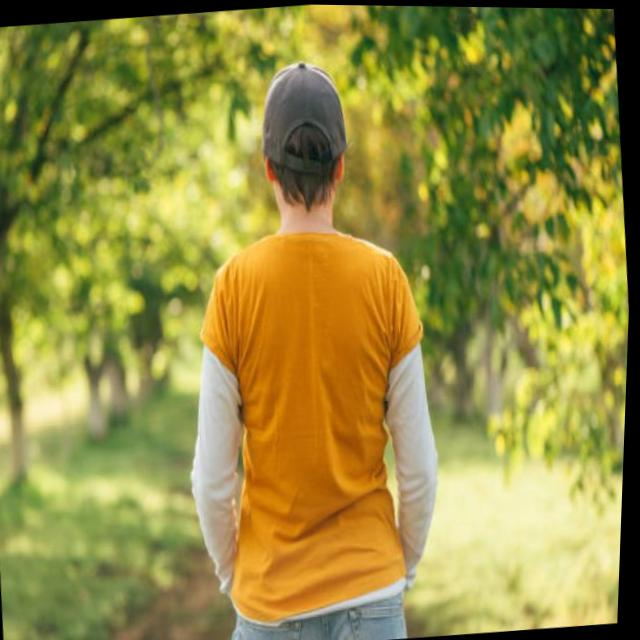no helmet: (244, 40, 383, 247)
